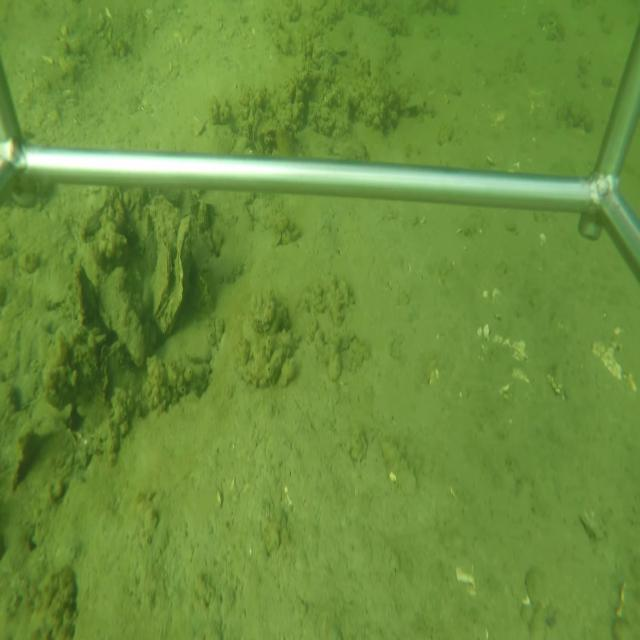Oyster-Closed: (161, 209, 195, 336), (145, 233, 172, 321)
Oyster-Indeterminate: (104, 268, 149, 371)
